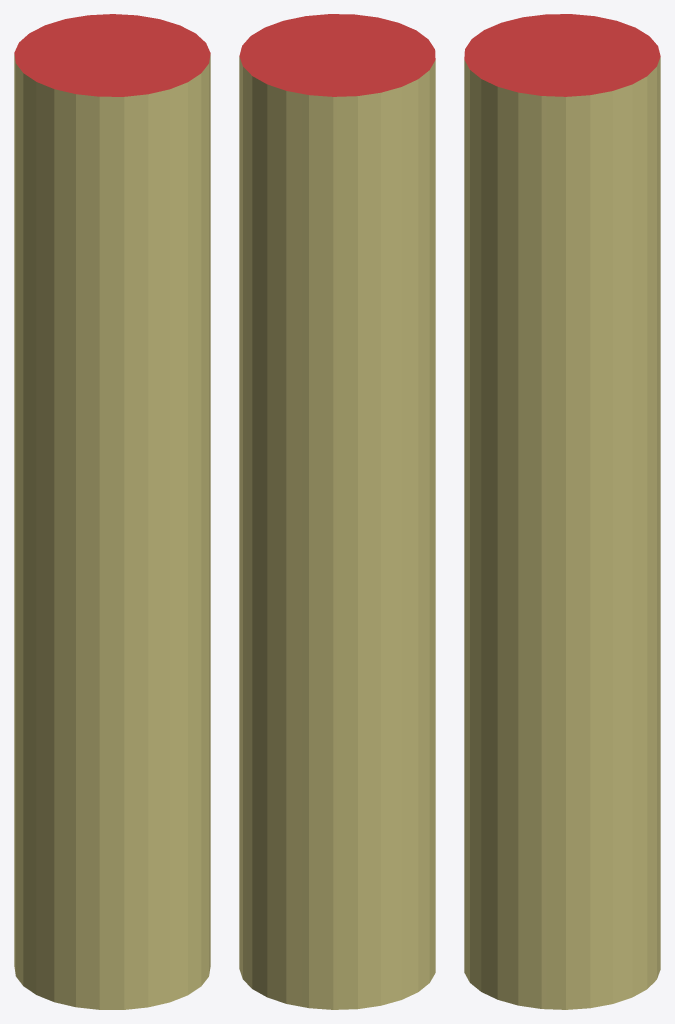
The picture shows the model from 3 angles, left to right: view 1: azimuth 30°, elevation 25°; view 2: azimuth 150°, elevation 25°; view 3: azimuth 270°, elevation 25°; orthographic projection.
Size of the model in its own units: 2.24 by 2.24 by 11.51.
